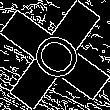O_SE: (22, 22, 88, 88)
